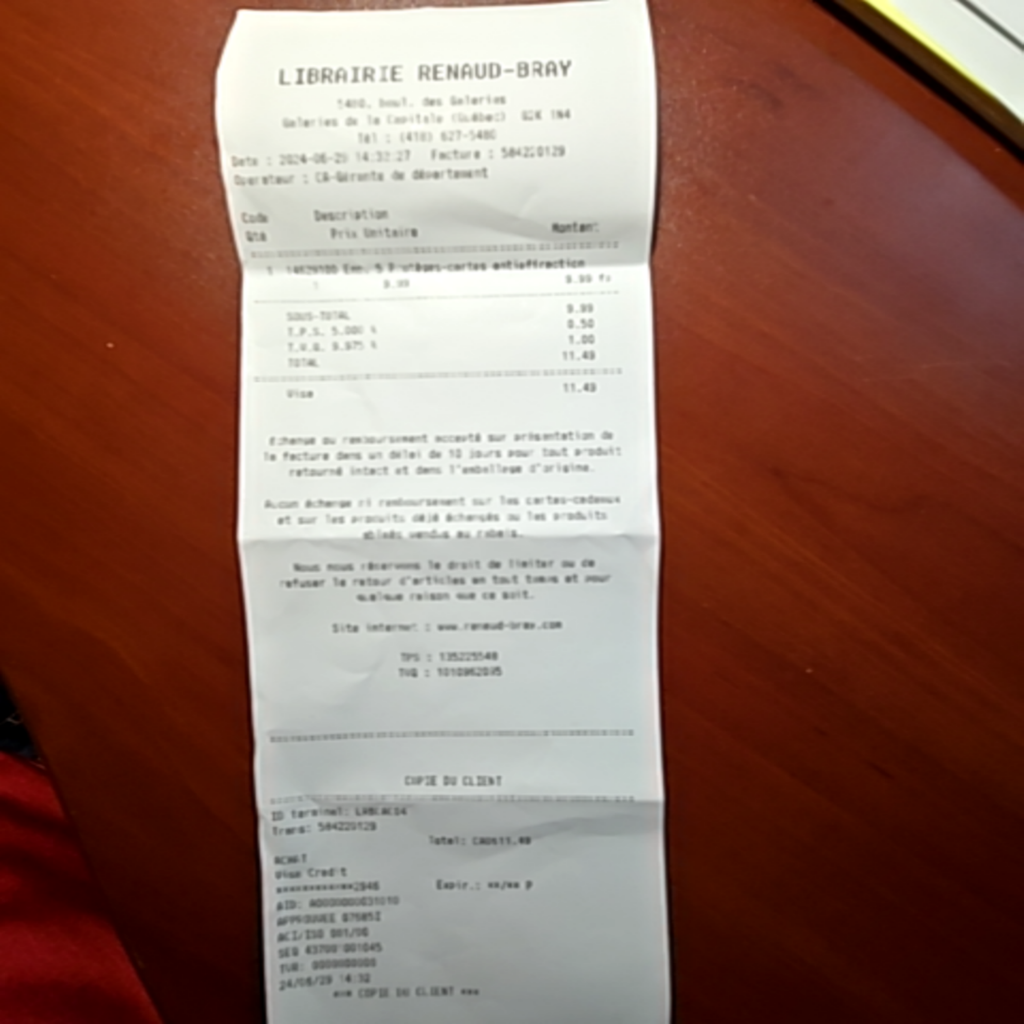recipt: (214, 0, 671, 1022)
